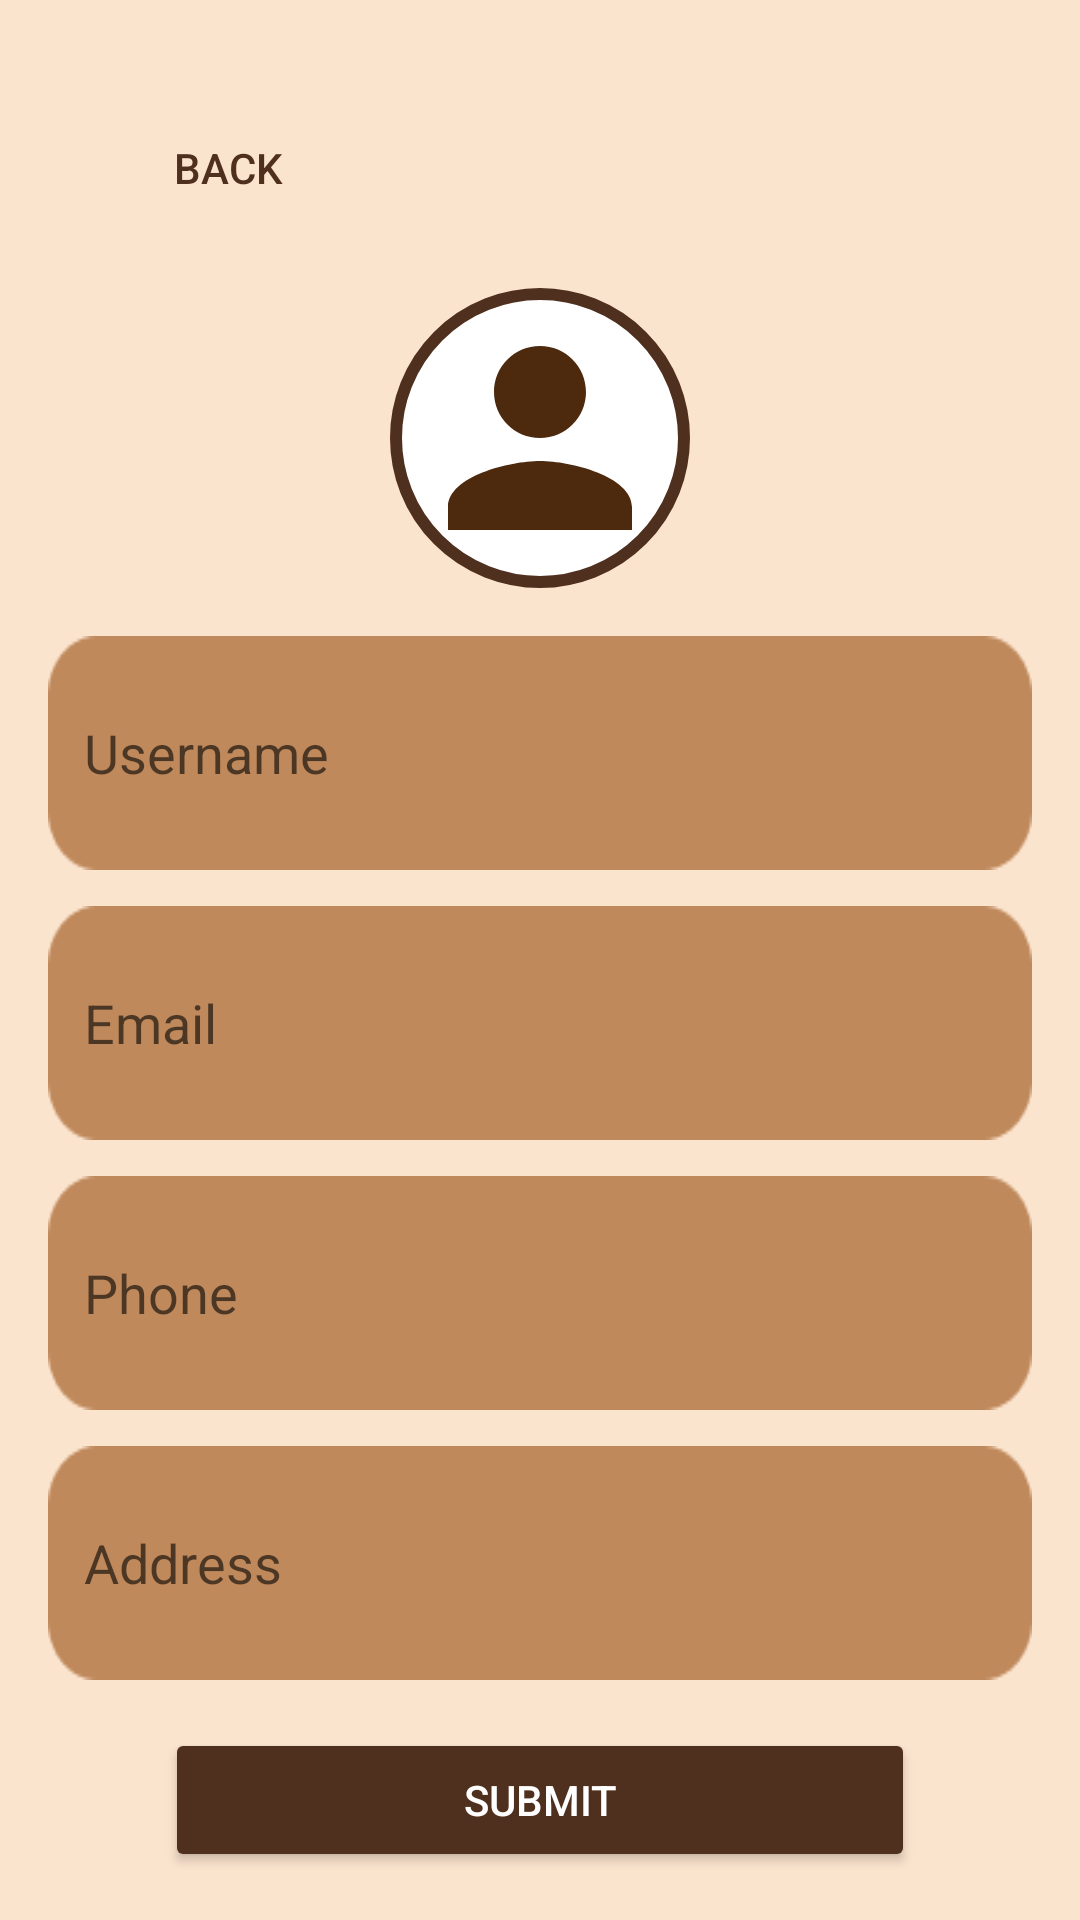

Named icons in this screenshot (1080 × 1920) and their bounding boxes, (x1, y1, x2, y2):
Profile Picture: (390, 288, 690, 588)
